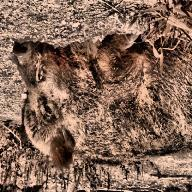boar: (6, 0, 192, 177)
